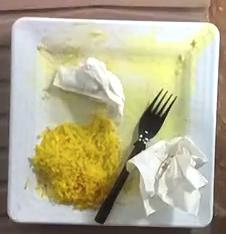rice: (31, 115, 118, 208)
